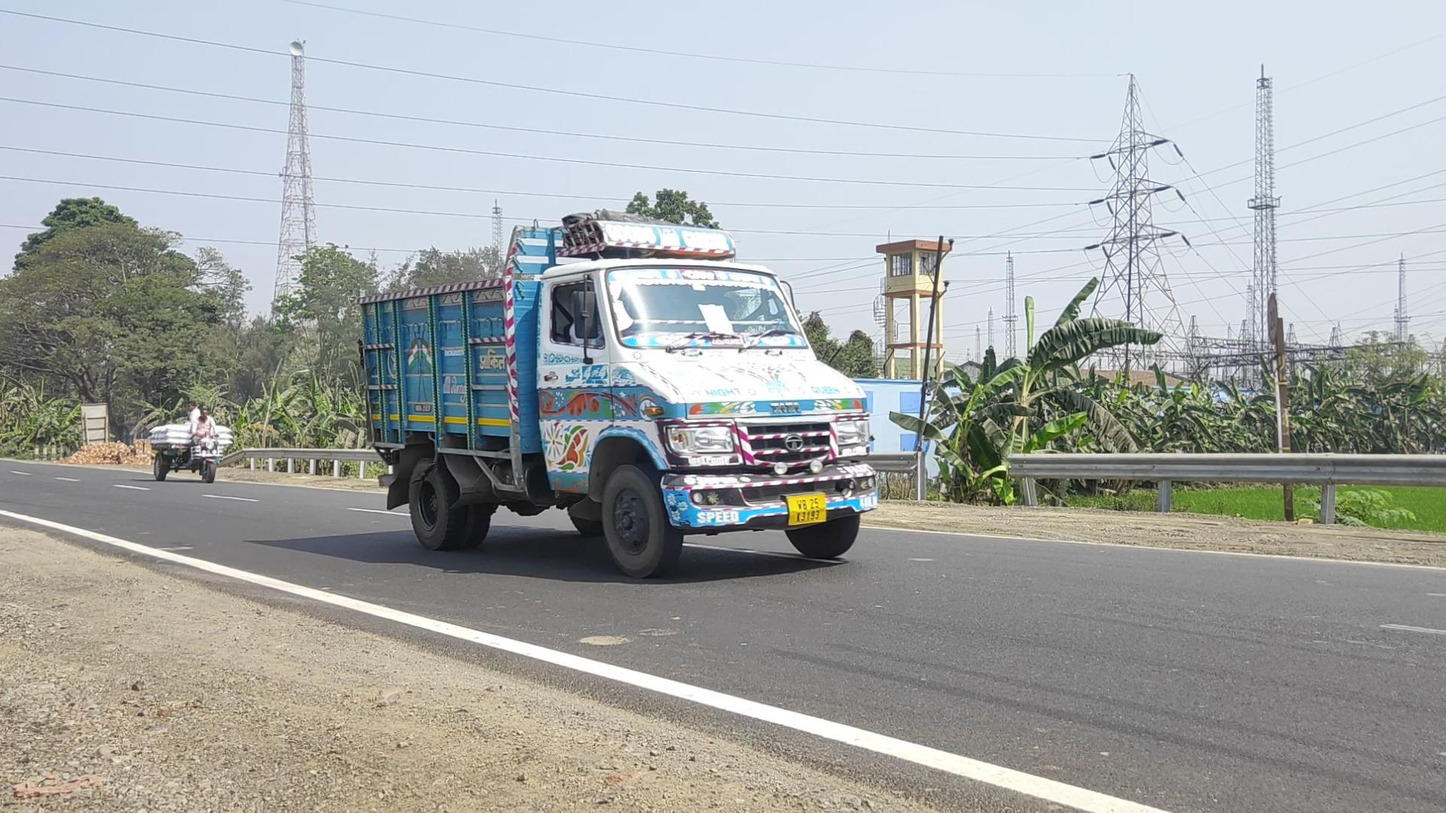truck: (360, 220, 877, 580)
